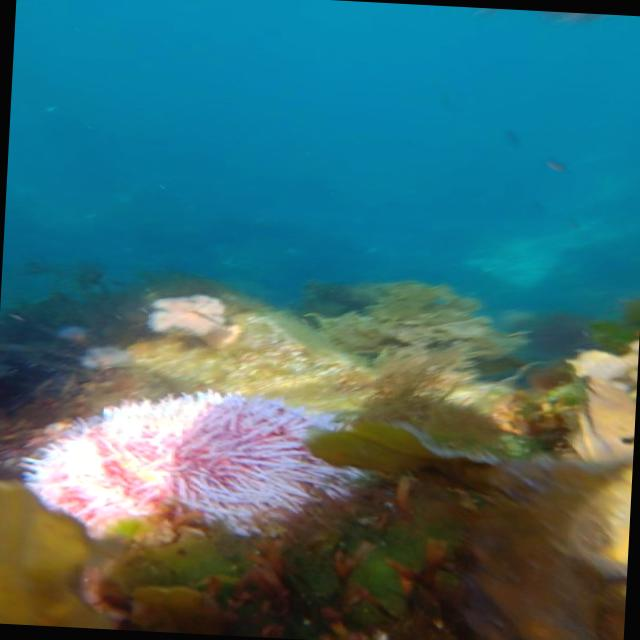Deniz Kestanesi: (19, 378, 389, 556), (58, 324, 88, 346)
